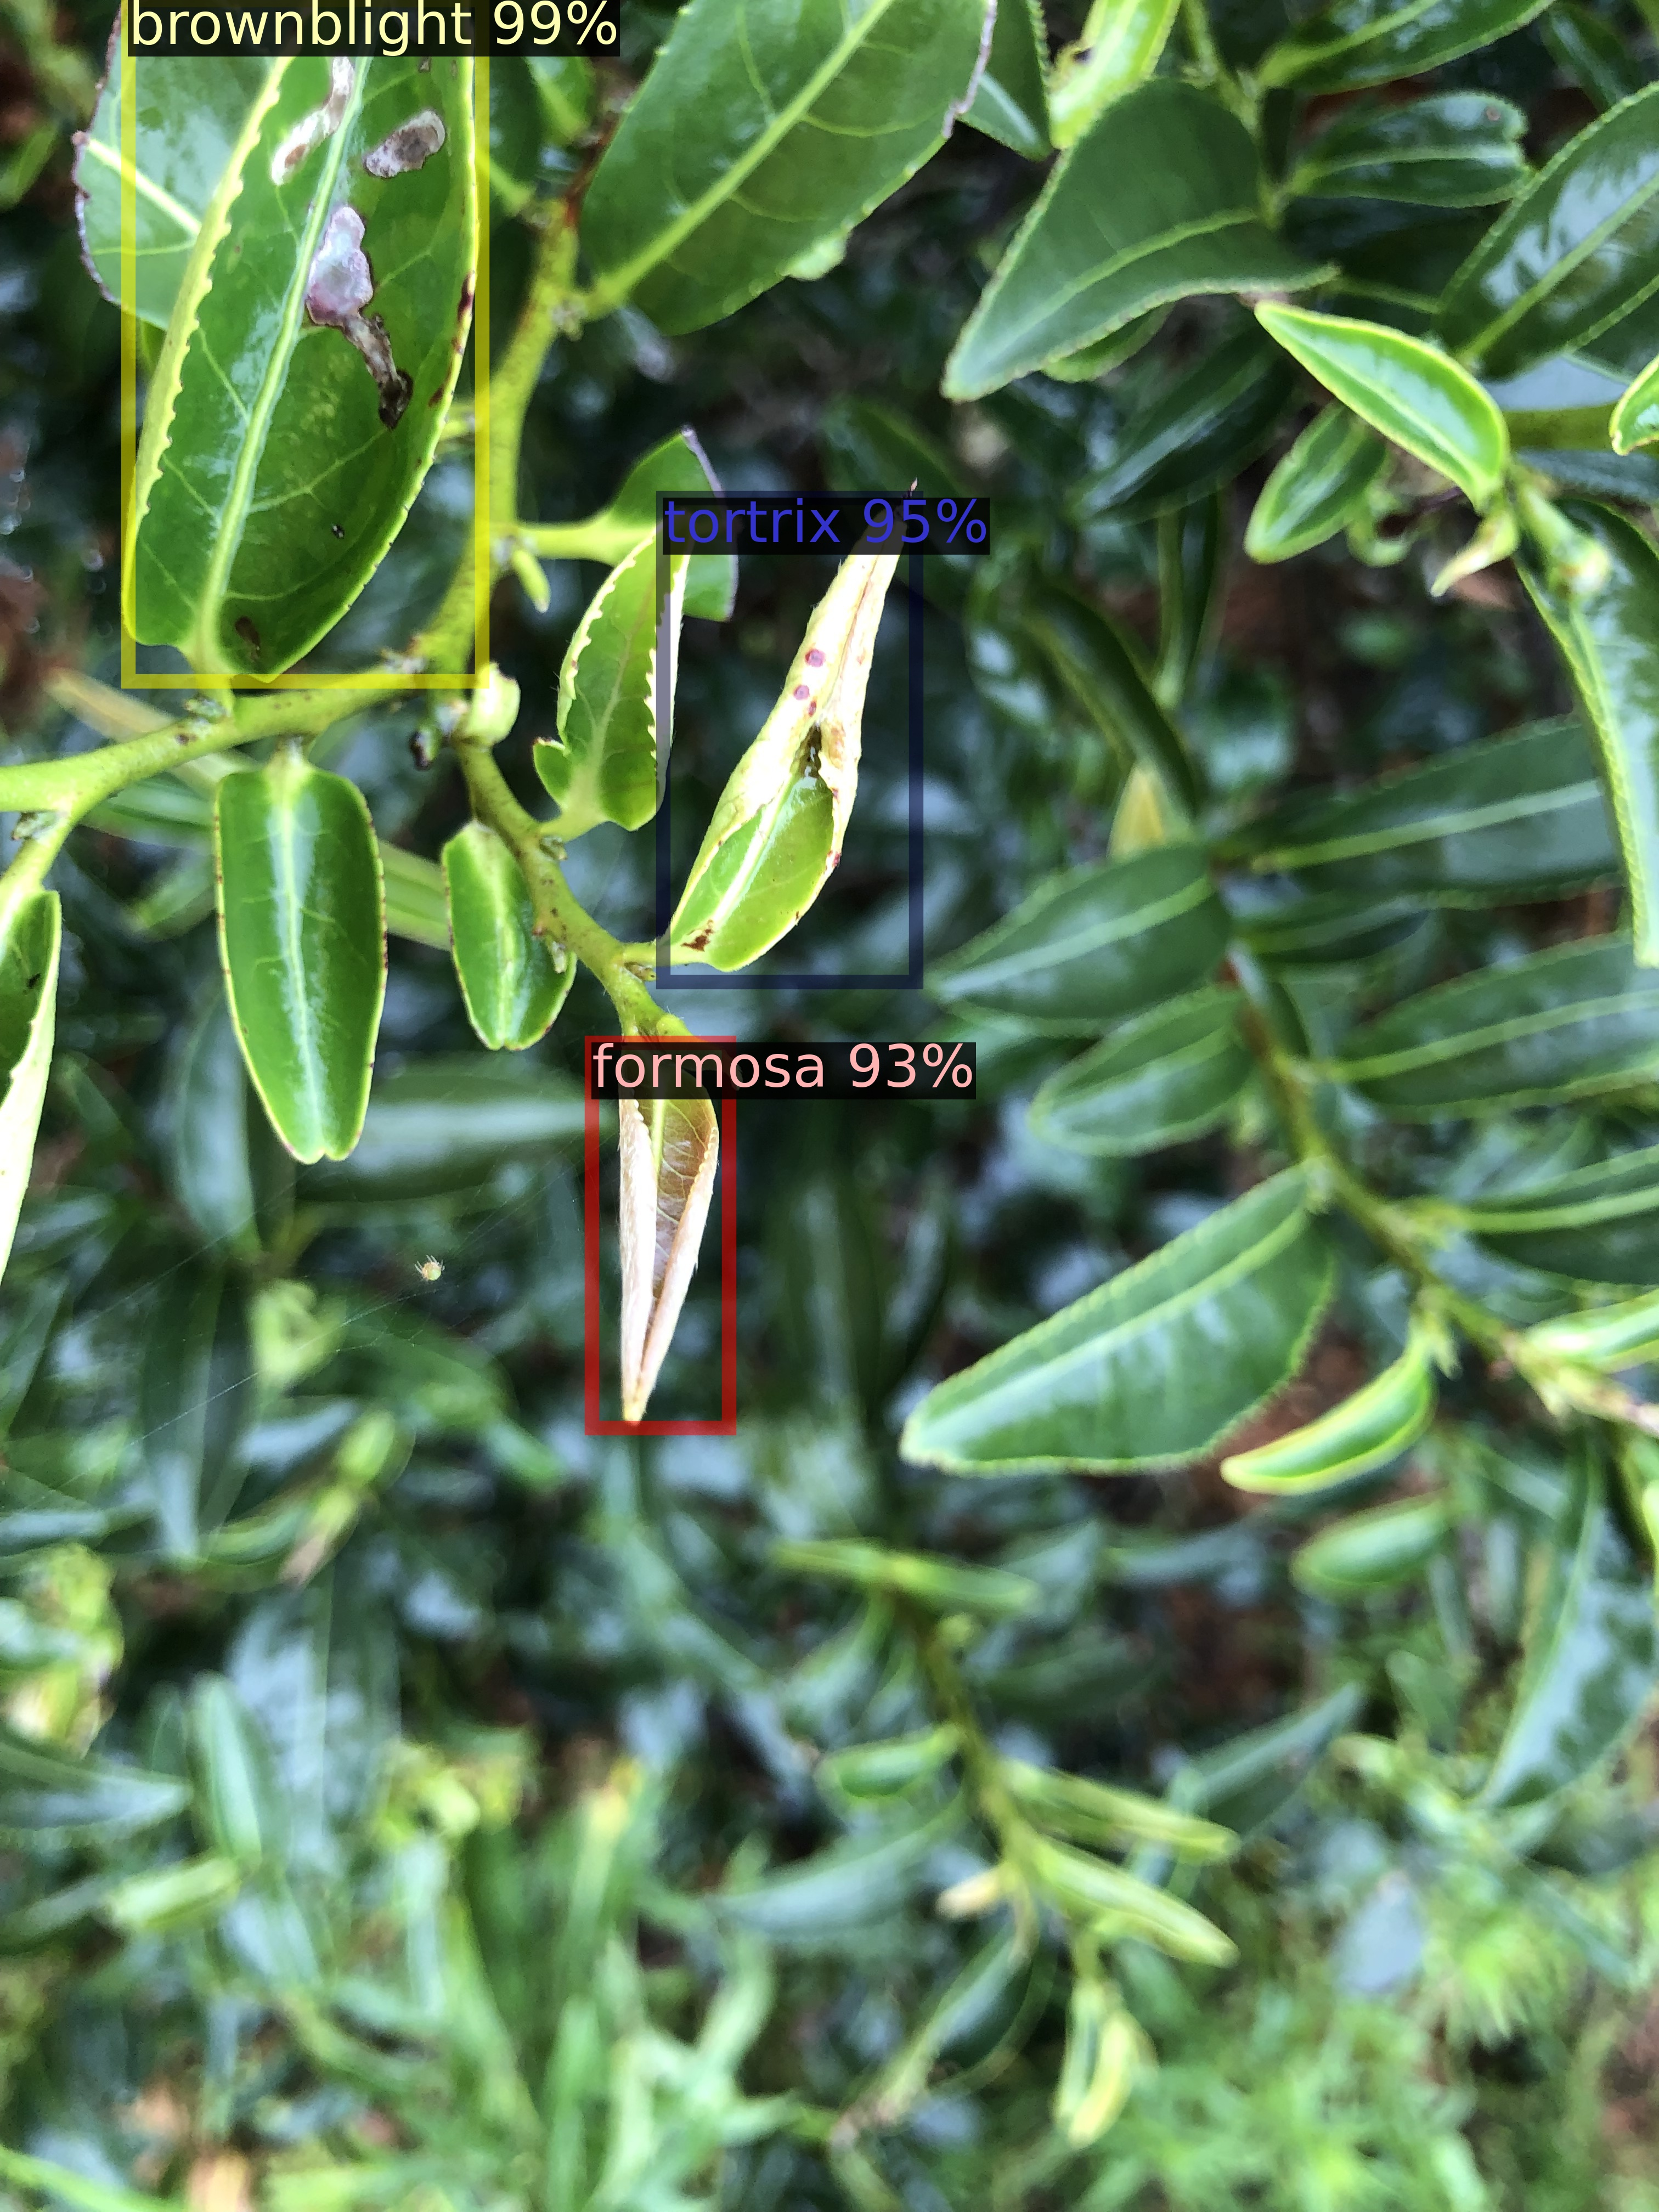brownblight: (127, 0, 483, 681)
formosa: (592, 1043, 728, 1428)
tortrix: (664, 498, 915, 982)
